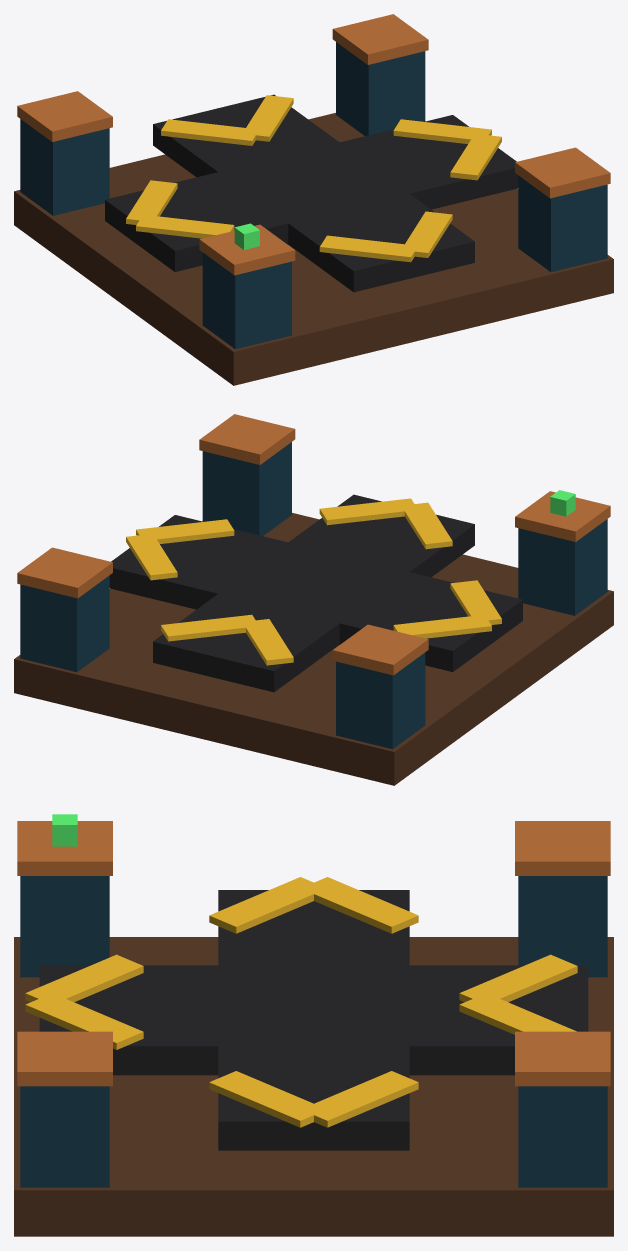
Rendered from splitter.obj.
3 renders of one model, top to bottom at view 1: azimuth 30°, elevation 25°; view 2: azimuth 150°, elevation 25°; view 3: azimuth 270°, elevation 25°, orthographic. The views are drawn at different scales.
Parts seen in each view (by area): view 1: Body, Belt, Frame, Arrows, Lamp; view 2: Body, Belt, Frame, Arrows, Lamp; view 3: Body, Belt, Frame, Arrows, Lamp.
Part boxes in pixels (<box>): Body: <box>14,113,613,385</box>; Belt: <box>105,94,518,292</box>; Frame: <box>17,14,610,349</box>; Arrows: <box>126,95,501,262</box>; Lamp: <box>234,223,259,249</box>; Body: <box>14,513,613,785</box>; Belt: <box>109,494,522,692</box>; Frame: <box>17,414,610,749</box>; Arrows: <box>126,498,501,665</box>; Lamp: <box>550,490,575,516</box>; Body: <box>14,937,613,1236</box>; Belt: <box>39,890,588,1150</box>; Frame: <box>17,821,610,1187</box>; Arrows: <box>25,877,577,1127</box>; Lamp: <box>52,814,77,846</box>.
Bounding box in the file's own units: 0.94 × 0.32 × 0.94.
